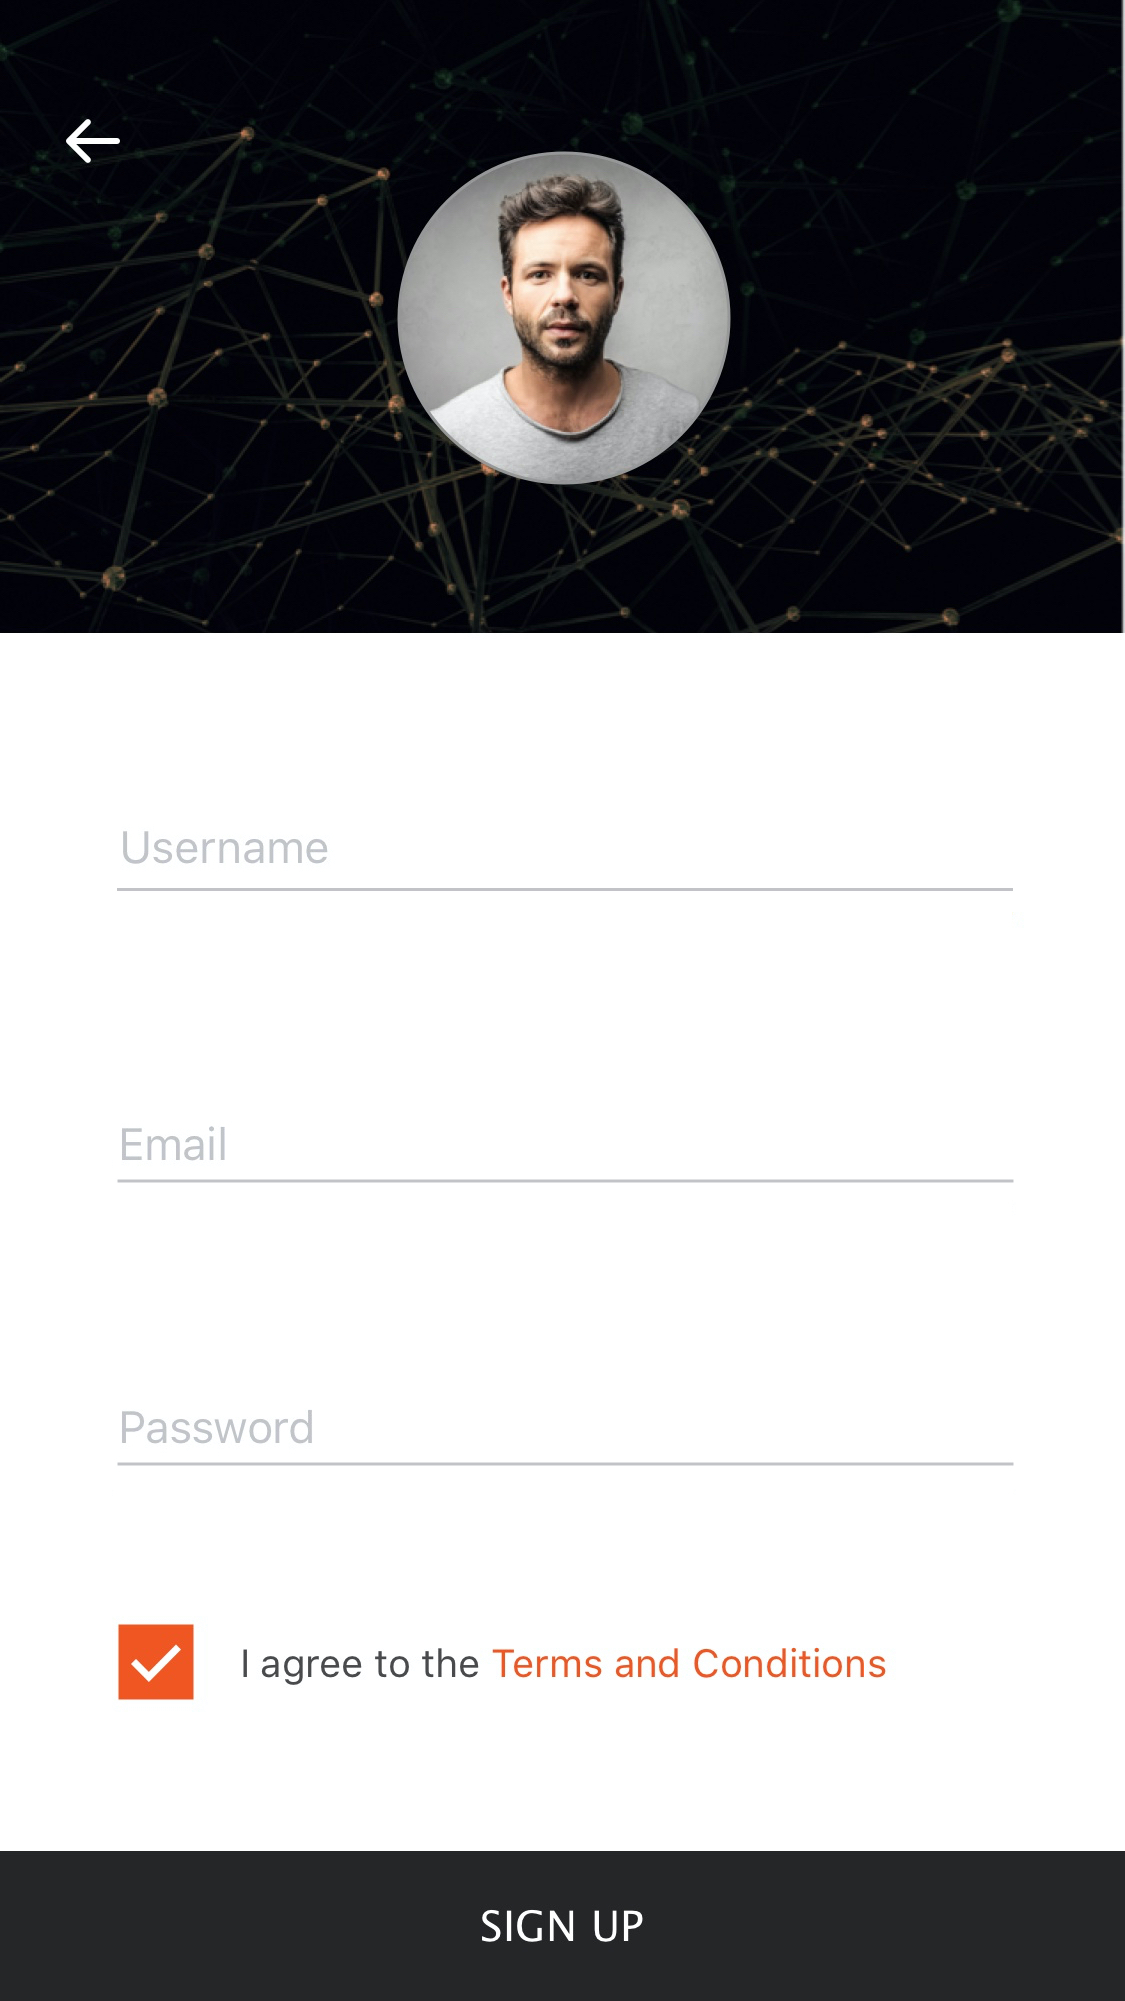CheckedTextView: (118, 1622, 887, 1701)
EditText: (117, 831, 1014, 892), (117, 1126, 1015, 1185), (117, 1409, 1014, 1466)
Icon: (66, 120, 122, 165)
Image: (1, 1, 1121, 634), (397, 151, 732, 487)
Text: (242, 1646, 887, 1686)
TextButton: (1, 1851, 1125, 2001)
